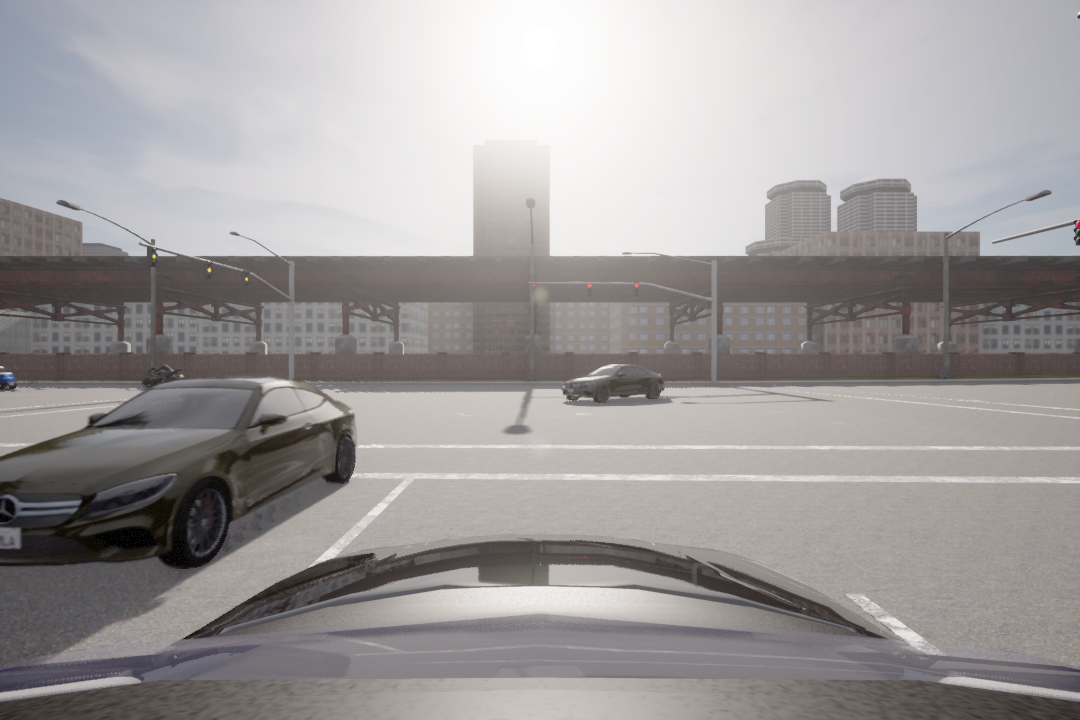TrafficLight: (144, 244, 157, 268), (201, 259, 213, 279), (241, 268, 251, 289), (632, 280, 641, 299), (585, 281, 594, 299)
